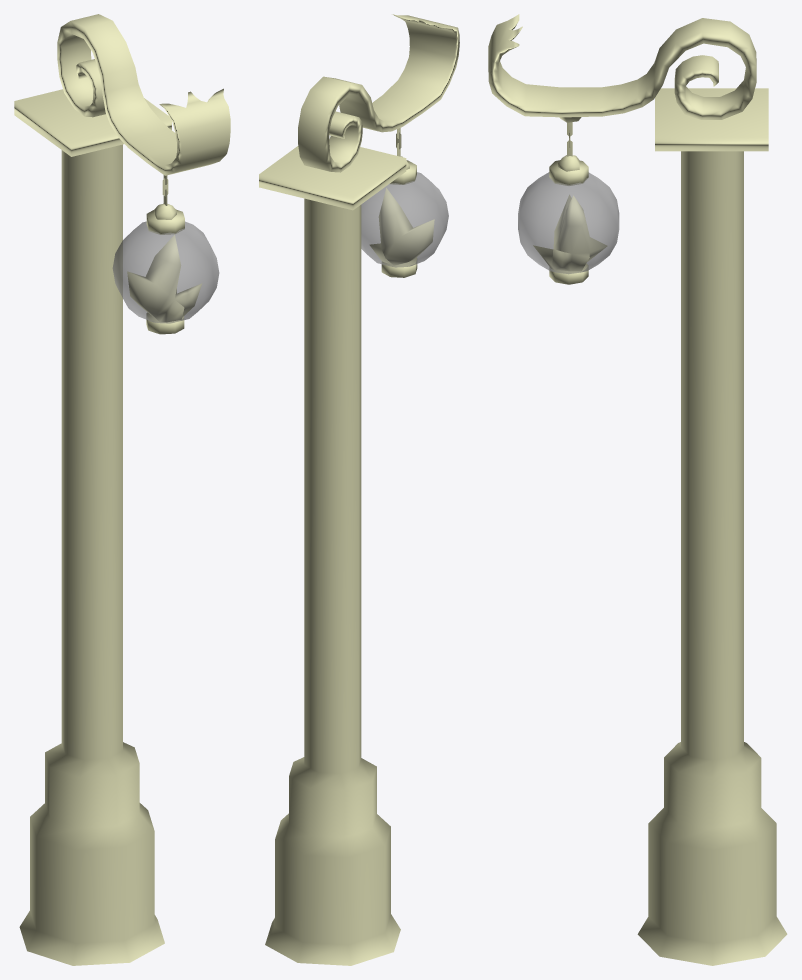
File: Lantern.fbx
The picture shows the model from 3 angles, left to right: view 1: azimuth 30°, elevation 25°; view 2: azimuth 150°, elevation 25°; view 3: azimuth 270°, elevation 25°; orthographic projection. The views are drawn at different scales.
Visible parts, largest first — view 1: Body, Lamp; view 2: Body, Lamp; view 3: Body, Lamp.
Boxes of the visible parts, x1,y1,x2,y2 form: Body: (14,14,230,965); Lamp: (112,175,219,334); Body: (259,14,459,965); Lamp: (361,128,448,277); Body: (488,14,787,965); Lamp: (518,122,619,284).
Bounding box in the file's own units: 0.521 × 3.49 × 1.04.
